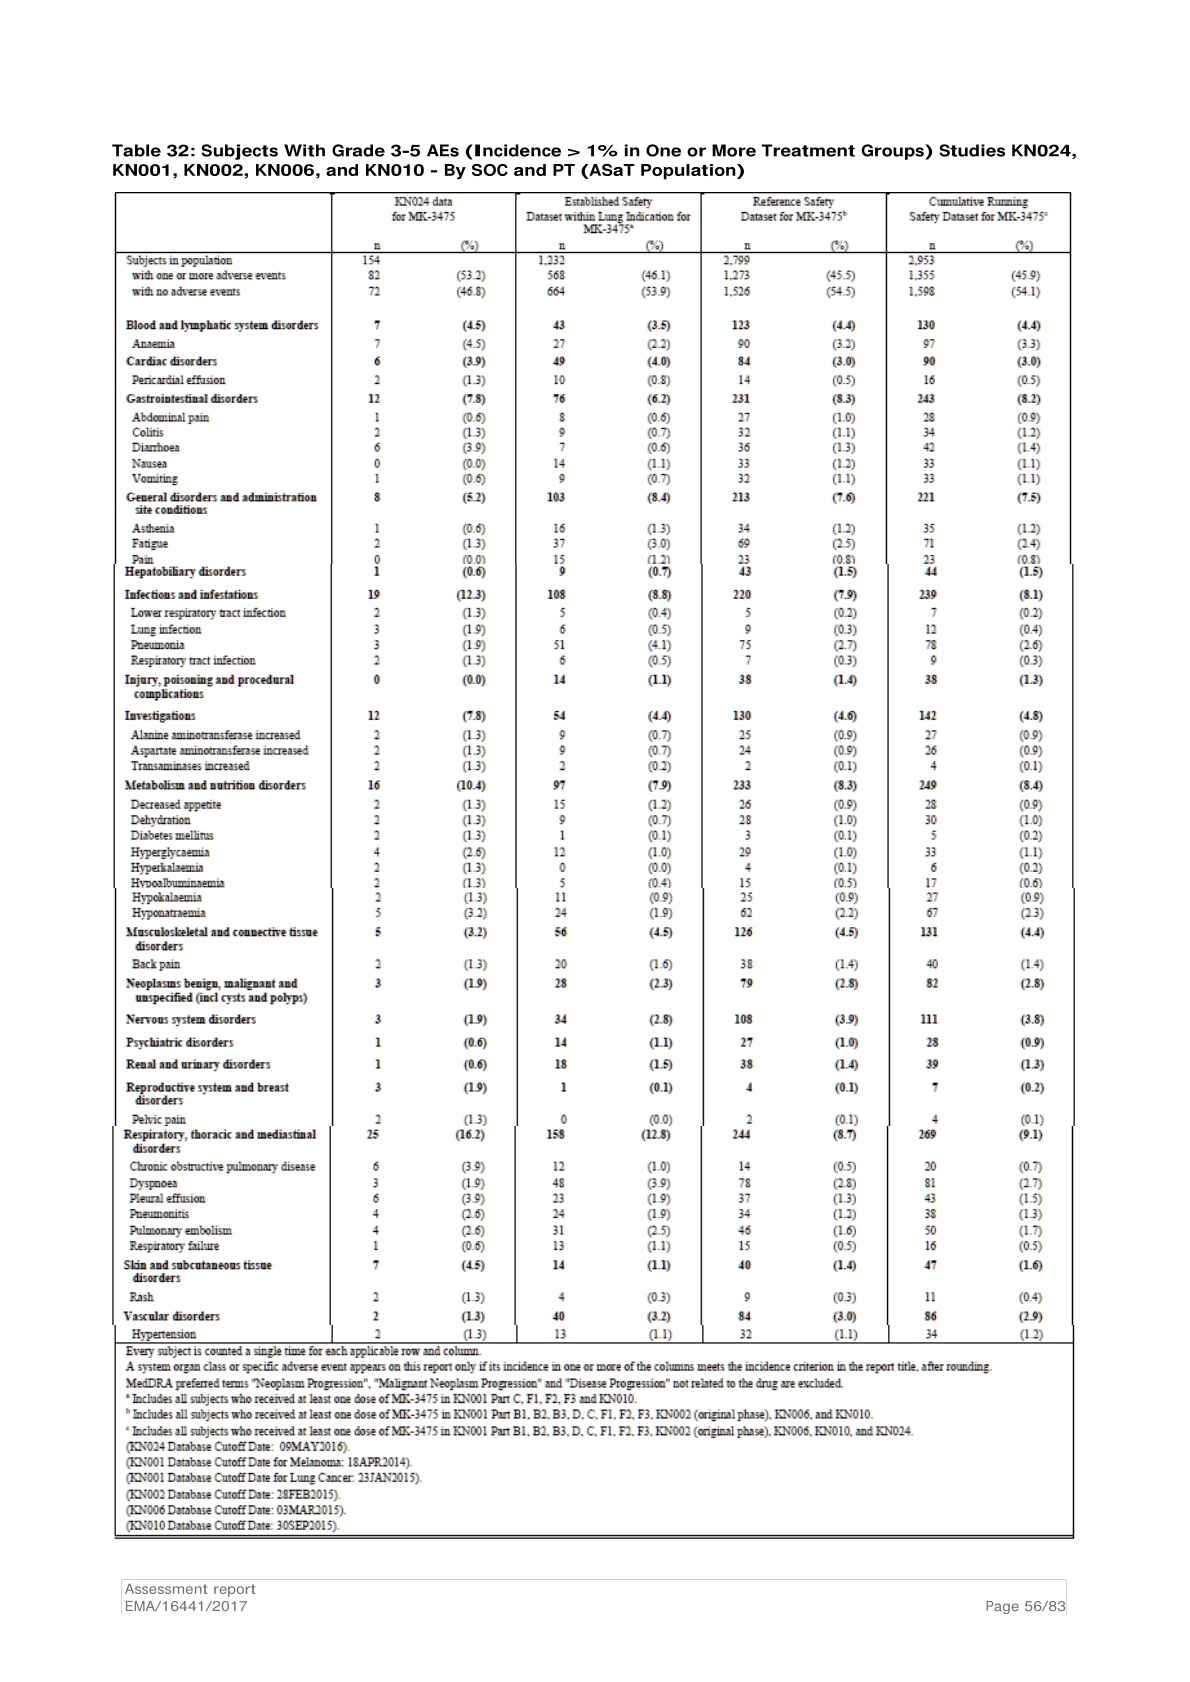partial_lined_merged_cells: (111, 187, 1075, 1538)
